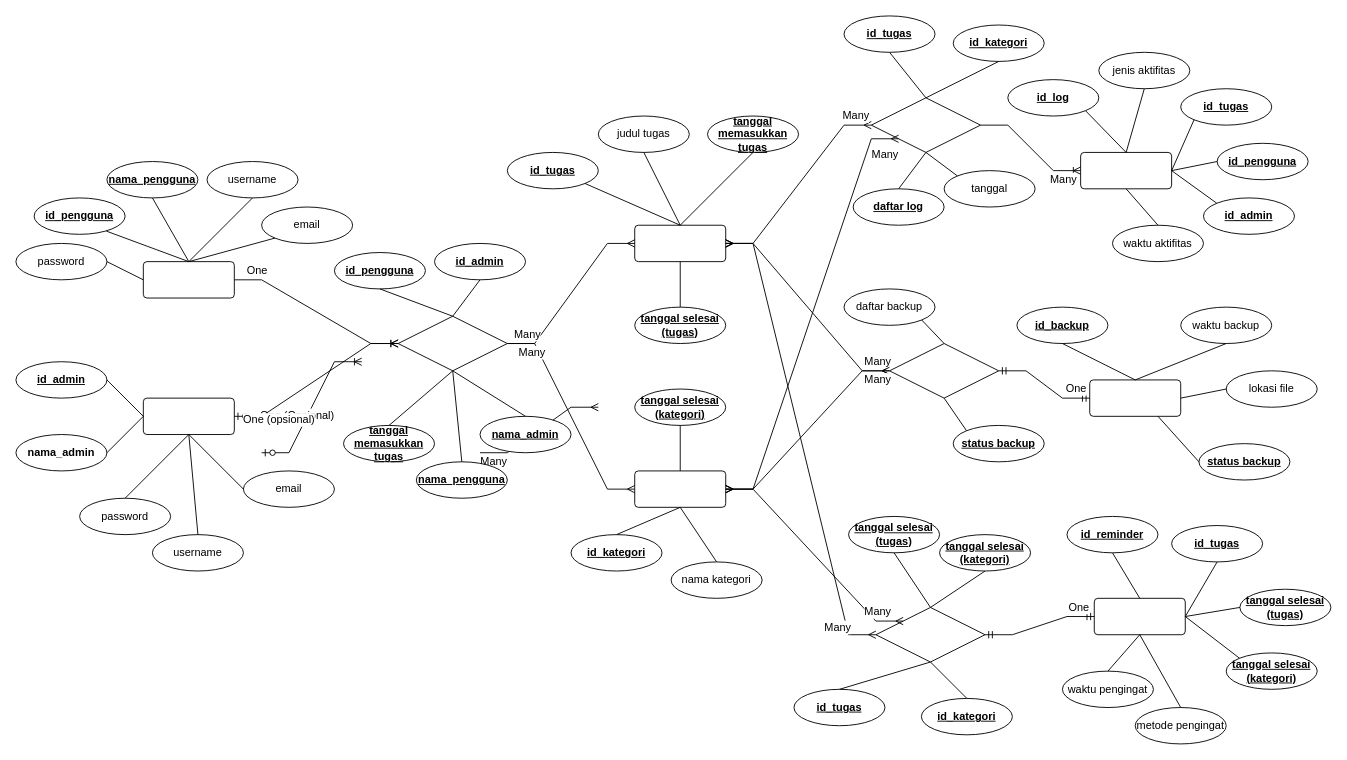
Image size: 1347x760. Some labels were removed from this diagram. Here are the shapes that lost their labels. From the top down, the centre of each, then its label:
At [925,124]: "menyimpan".
At [1126,170]: "Log Aktifitas".
At [680,243]: "Tugas".
At [188,279]: "Pengguna".
At [452,343]: "menginput dan mengontrol".
At [944,370]: "memberikan".
At [188,416]: "Admin".
At [1135,397]: "Backup".
At [680,488]: "Kategori".
At [930,634]: "memiliki".
At [1139,616]: "Reminder".
